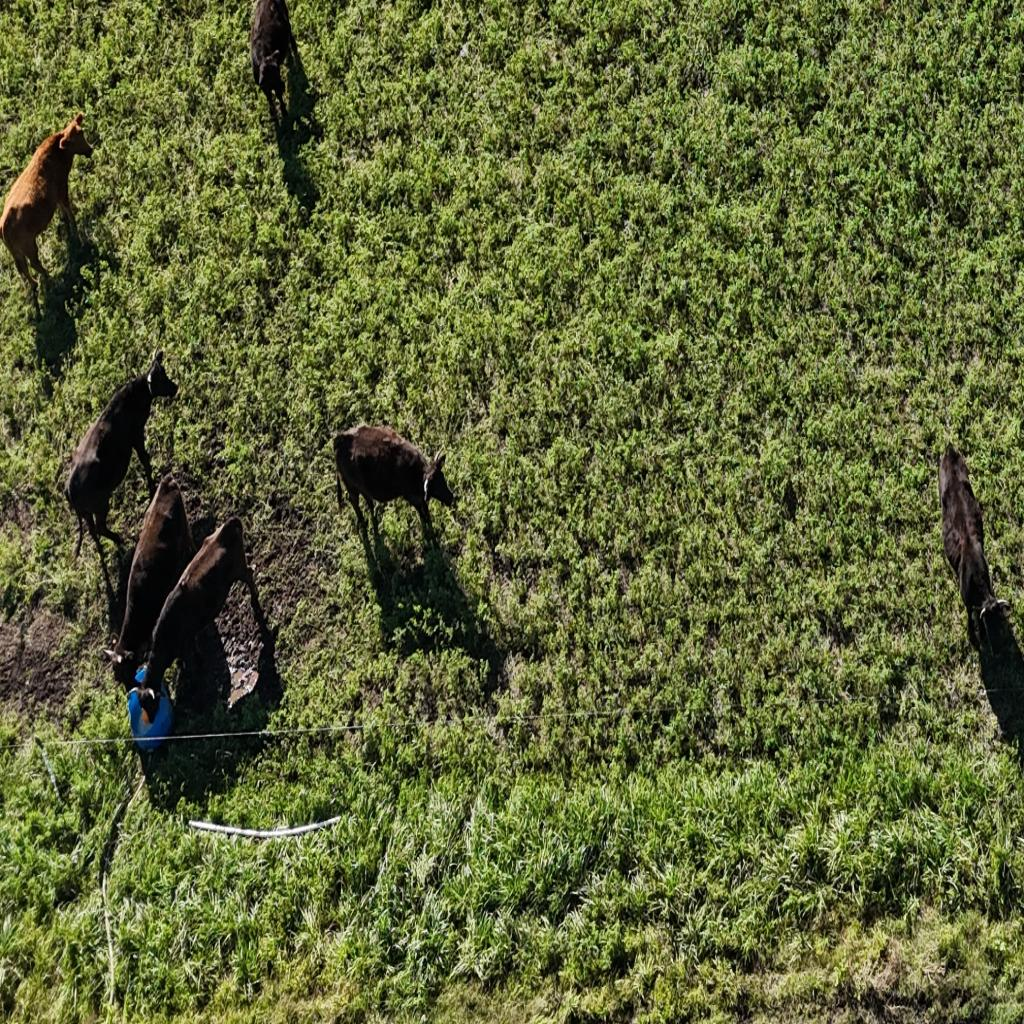cow: (60, 345, 182, 580), (135, 515, 270, 714), (0, 100, 99, 315), (330, 411, 460, 574), (101, 475, 196, 688), (936, 446, 1004, 654), (249, 0, 297, 129)
